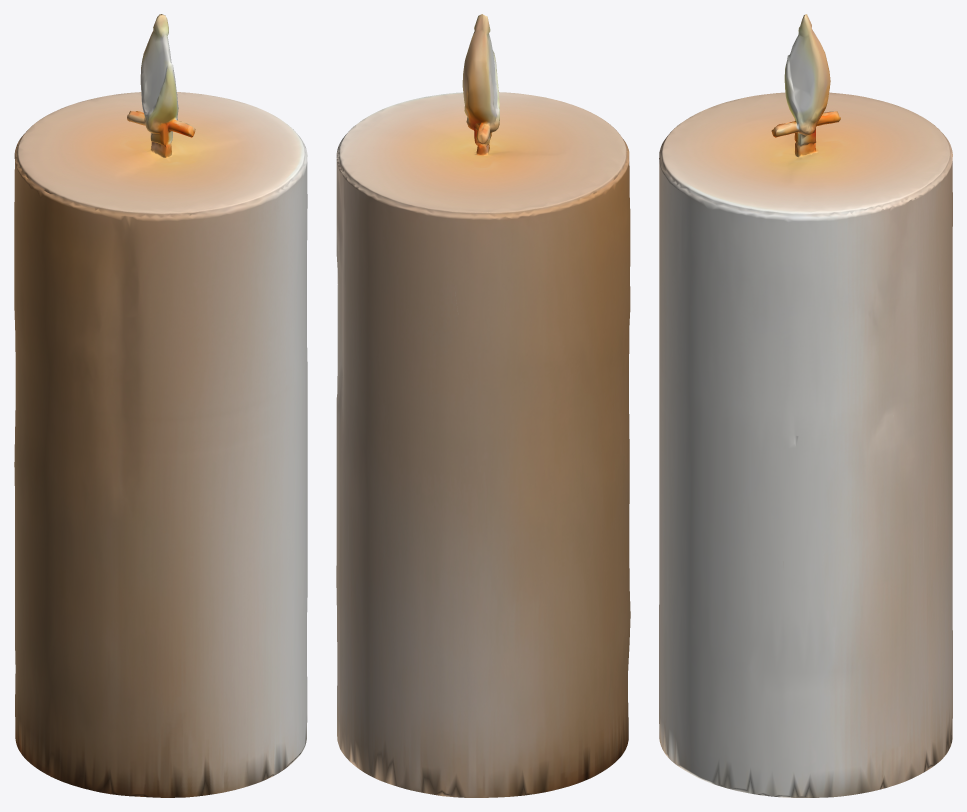
Rendered from vela.glb.
3 renders of one model, left to right at view 1: azimuth 30°, elevation 25°; view 2: azimuth 150°, elevation 25°; view 3: azimuth 270°, elevation 25°, orthographic.
Visible parts, largest first — view 1: tripo_node_f804559b-64d9-4537-b504-f65ec2c348a3; view 2: tripo_node_f804559b-64d9-4537-b504-f65ec2c348a3; view 3: tripo_node_f804559b-64d9-4537-b504-f65ec2c348a3.
Part boxes in pixels (x1,y1,x2,y2): tripo_node_f804559b-64d9-4537-b504-f65ec2c348a3: [14, 14, 307, 797]; tripo_node_f804559b-64d9-4537-b504-f65ec2c348a3: [336, 14, 630, 797]; tripo_node_f804559b-64d9-4537-b504-f65ec2c348a3: [659, 14, 952, 797].
Bounding box in the file's own units: 0.3613 × 0.9808 × 0.3612.
Materials: 1 (1 with a texture image).
